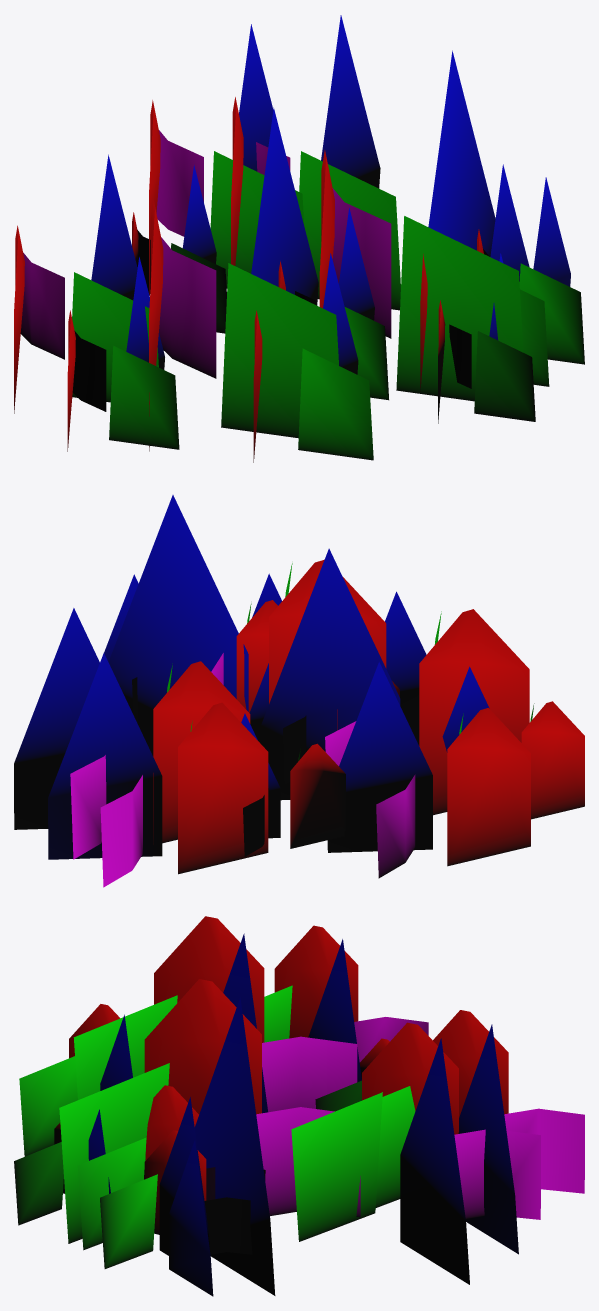
Rendered from SM_GrassPack_01.fbx.
3 renders of one model, top to bottom at view 1: azimuth 30°, elevation 25°; view 2: azimuth 150°, elevation 25°; view 3: azimuth 270°, elevation 25°, orthographic. The views are drawn at different scales.
Parts seen in each view (by area): view 1: attribtransfer1; view 2: attribtransfer1; view 3: attribtransfer1.
Boxes of the visible parts, box(x1,y1,x2,y2) form: attribtransfer1: box(14, 15, 584, 462); attribtransfer1: box(14, 495, 584, 887); attribtransfer1: box(14, 916, 584, 1296).
Bounding box in the file's own units: 131 × 71.54 × 136.
